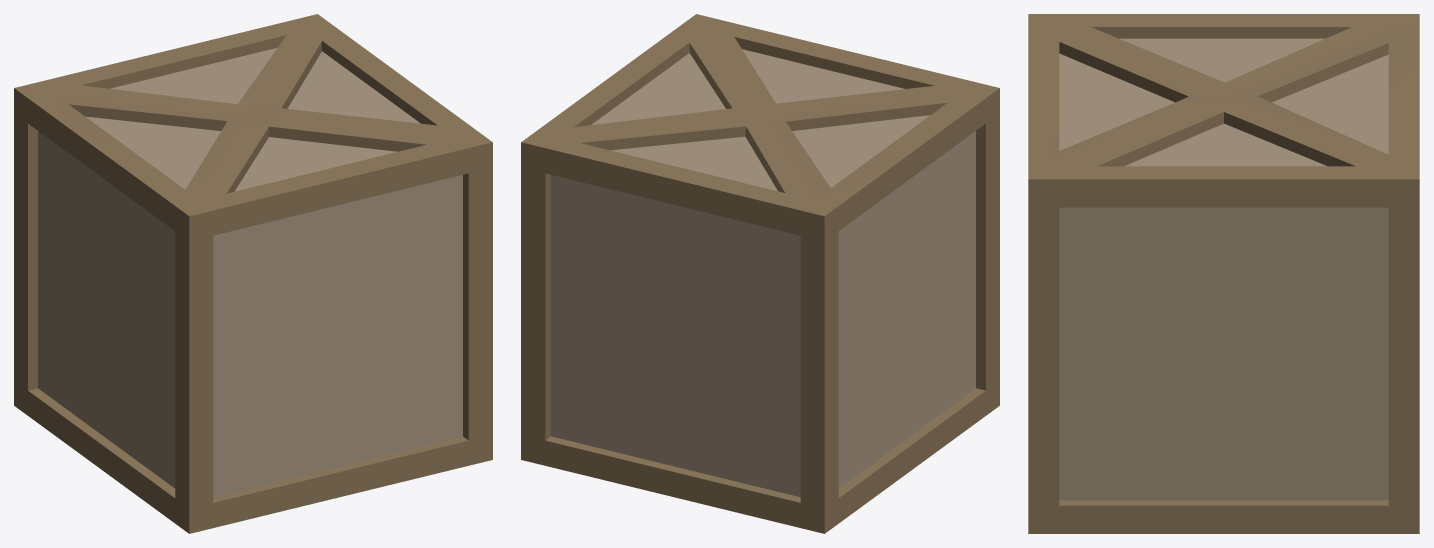
3 renders of one model, left to right at view 1: azimuth 30°, elevation 25°; view 2: azimuth 150°, elevation 25°; view 3: azimuth 270°, elevation 25°, orthographic. The views are drawn at different scales.
Parts seen in each view (by area): view 1: pCube1; view 2: pCube1; view 3: pCube1.
Boxes of the visible parts, box(x1,y1,x2,y2) form: pCube1: box(14, 14, 492, 533); pCube1: box(521, 14, 999, 533); pCube1: box(1028, 14, 1419, 533).
Size of the model in its own units: 10.7 by 10.71 by 10.7.
